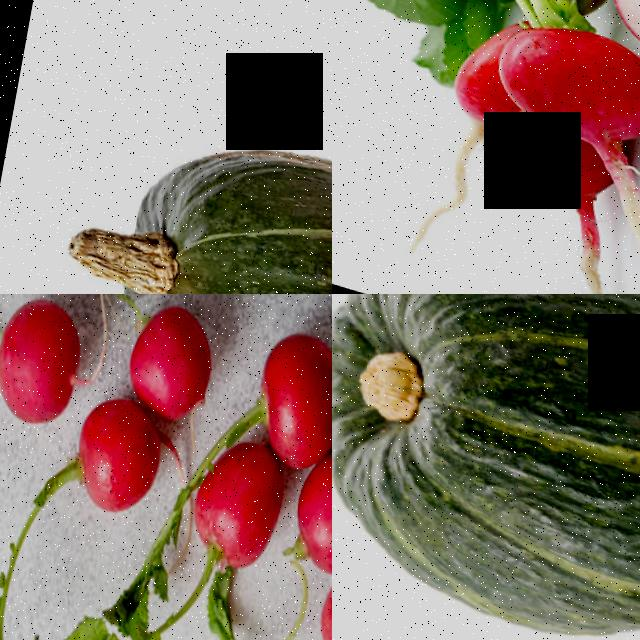pumpkin: (332, 294, 640, 640), (65, 89, 332, 294)
radishes: (415, 0, 640, 217)
spinach: (46, 373, 178, 530), (170, 418, 284, 594), (243, 296, 332, 451), (119, 294, 223, 423), (0, 294, 91, 433), (281, 402, 332, 572)
